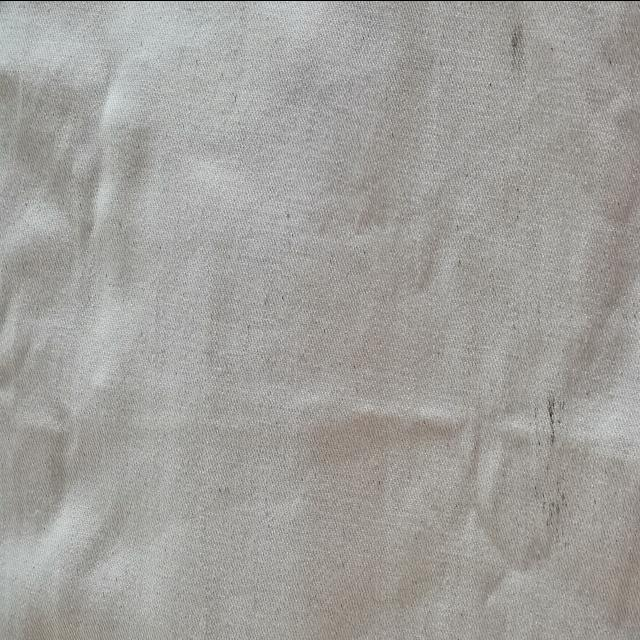taaaches: (540, 368, 578, 554), (496, 2, 532, 98)
